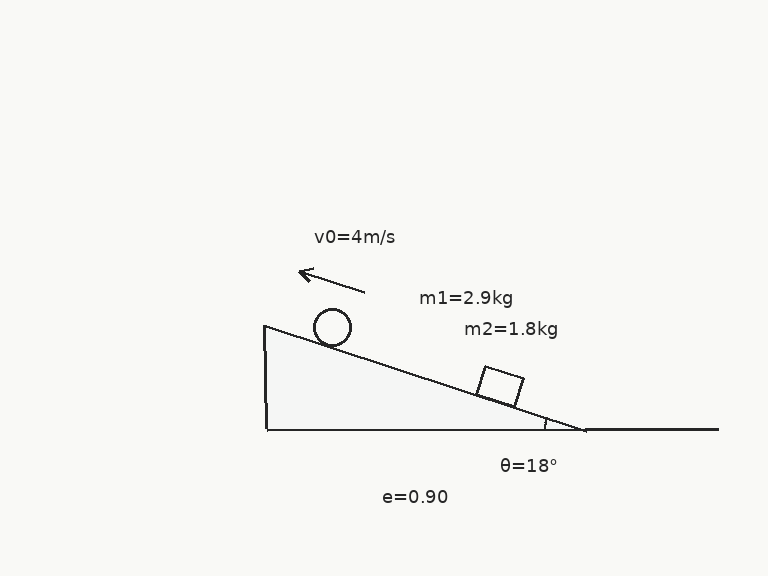ball: (311, 306, 353, 348)
block: (474, 364, 525, 408)
ramp: (263, 323, 587, 431)
